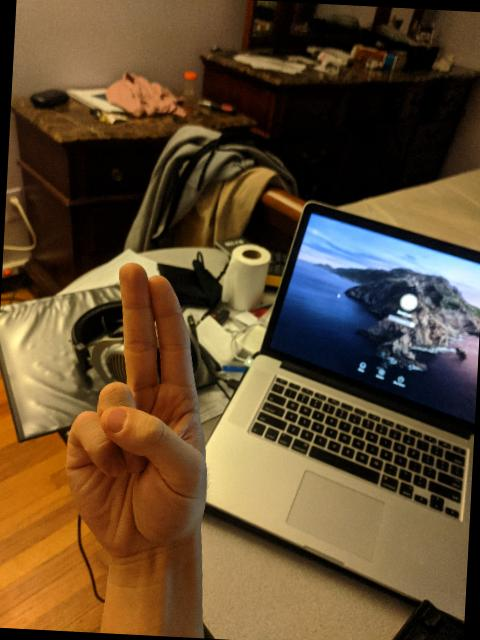U: (53, 254, 227, 568)
